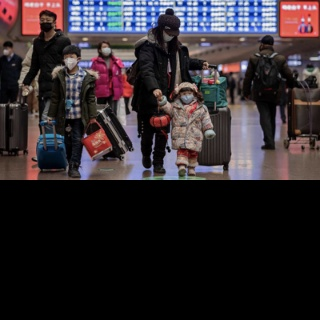with_mask: (39, 16, 53, 32), (64, 54, 78, 69), (181, 90, 194, 103), (163, 29, 175, 43), (101, 45, 111, 56), (3, 46, 12, 56)
